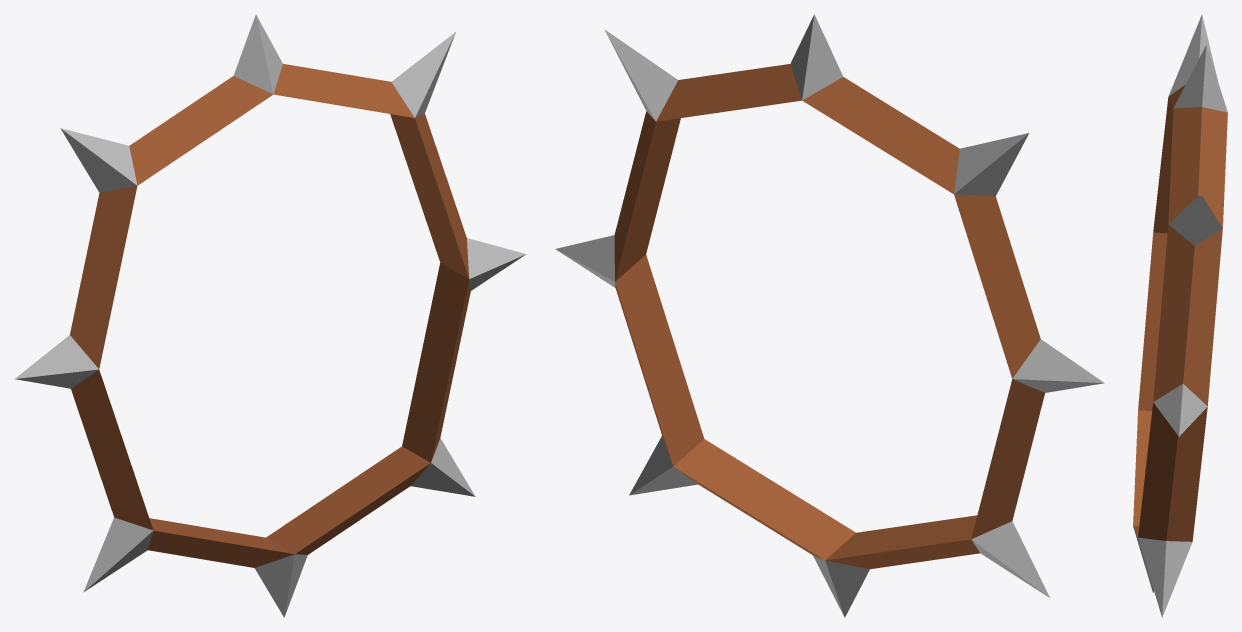
Rendered from Headband 05.FBX.
The picture shows the model from 3 angles, left to right: view 1: azimuth 30°, elevation 25°; view 2: azimuth 150°, elevation 25°; view 3: azimuth 270°, elevation 25°; orthographic projection. The views are drawn at different scales.
Visible parts, largest first — view 1: Headband 05; view 2: Headband 05; view 3: Headband 05.
Boxes of the visible parts, x1,y1,x2,y2 form: Headband 05: (15,14,526,617); Headband 05: (555,14,1104,617); Headband 05: (1133,14,1227,617).
Bounding box in the file's own units: 49.25 × 8.4 × 53.59.
